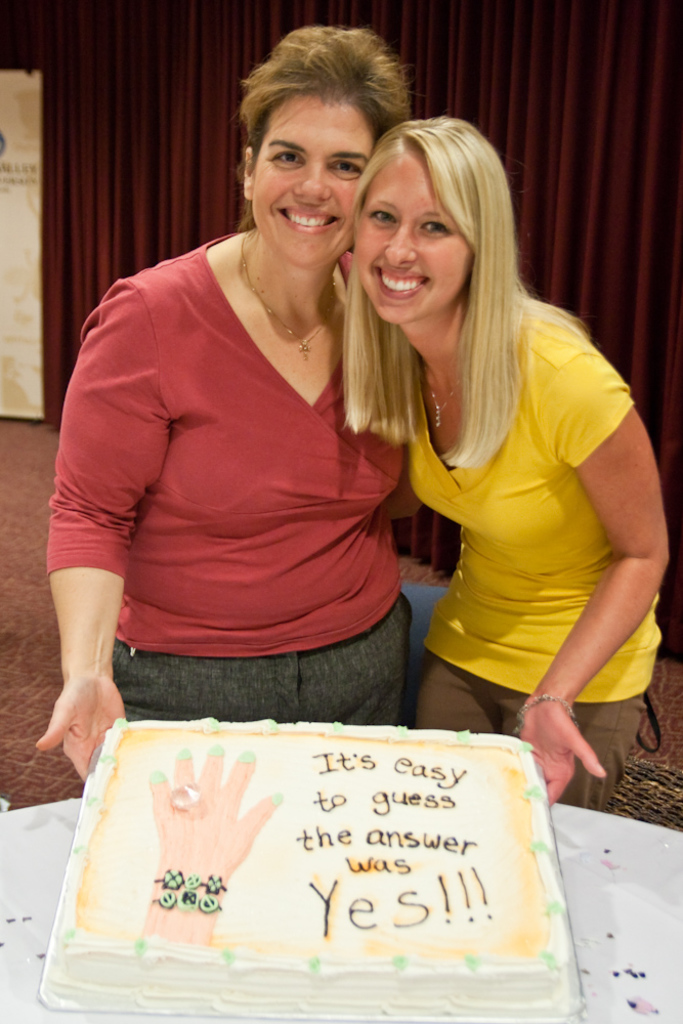cake: (45, 719, 554, 999)
